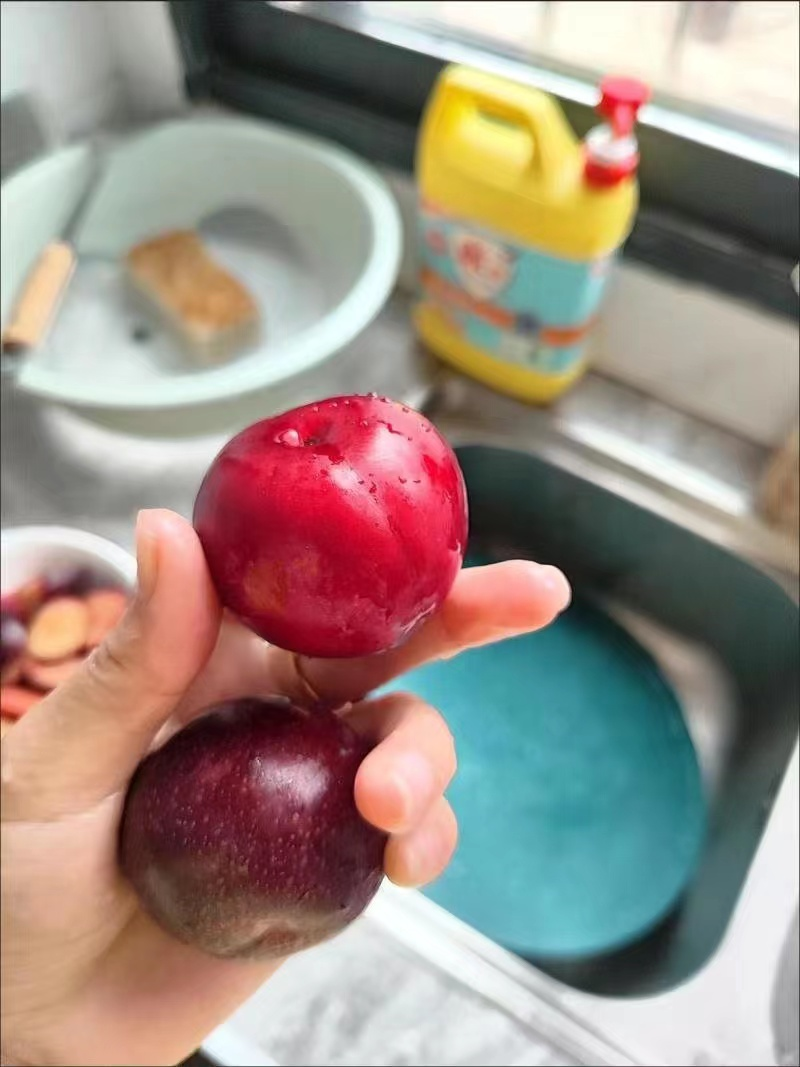plum_A: (119, 696, 384, 957)
plum_B: (192, 395, 469, 661)
